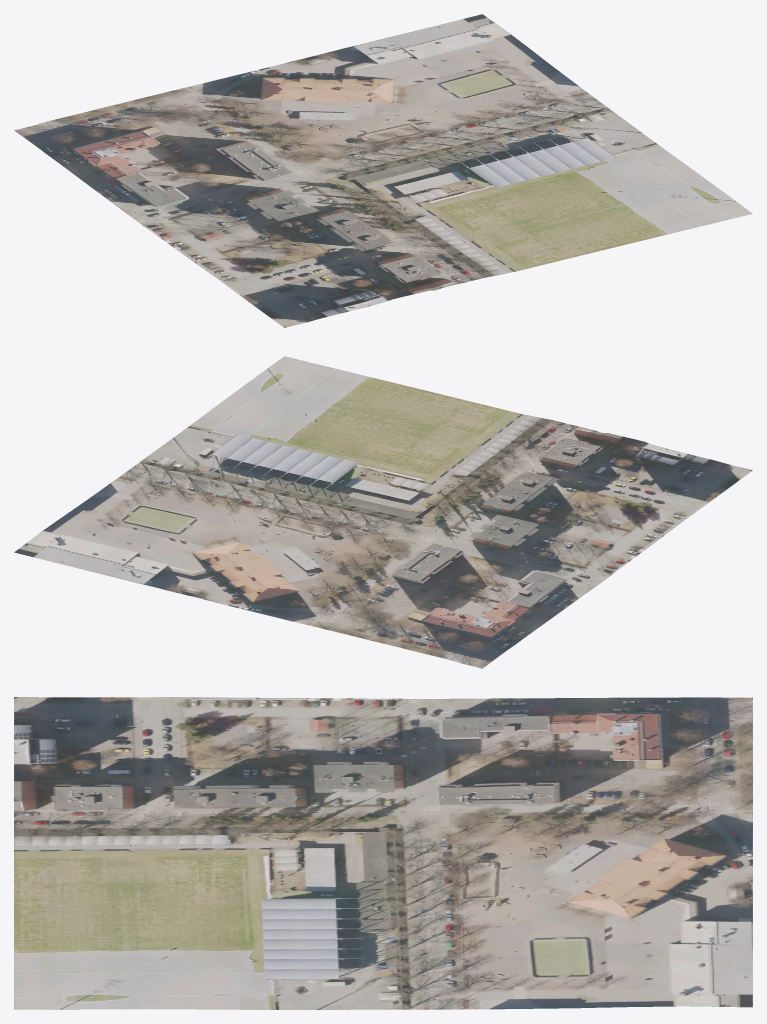
The model's file is CM_Terrain_24488410_6821227.fbx.
3 views of the same model, one above another, from view 1: azimuth 30°, elevation 25°; view 2: azimuth 150°, elevation 25°; view 3: azimuth 270°, elevation 25° (orthographic). The views are drawn at different scales.
Parts seen in each view (by area): view 1: CM_Terrain_24488410_6821227_LOD0; view 2: CM_Terrain_24488410_6821227_LOD0; view 3: CM_Terrain_24488410_6821227_LOD0.
Part boxes in pixels (x1,y1,x2,y2): CM_Terrain_24488410_6821227_LOD0: (14, 14, 752, 327); CM_Terrain_24488410_6821227_LOD0: (14, 356, 752, 668); CM_Terrain_24488410_6821227_LOD0: (14, 697, 752, 1009).
Size of what is drawn, in the model's own units: 205 by 1.49 by 205.
